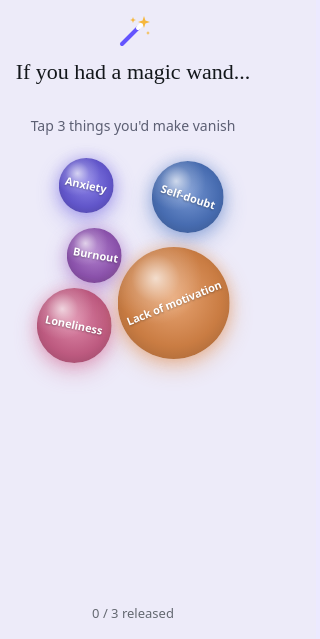
it: WandScreen › counts each release at once, announces it and removes the bubble
Click the button with aria-label "Release Self-doubt" at (188, 197), box [152, 161, 224, 233]
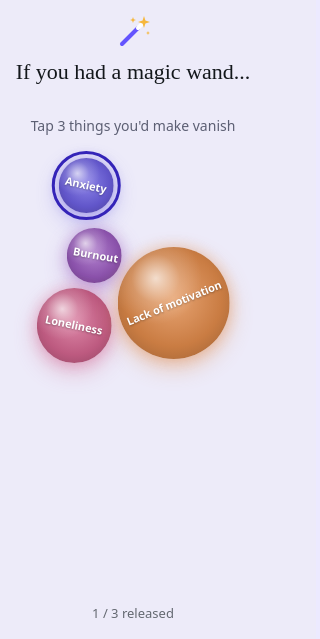
Result: the text "1 / 3 released" is shown at [92, 604, 174, 622]
